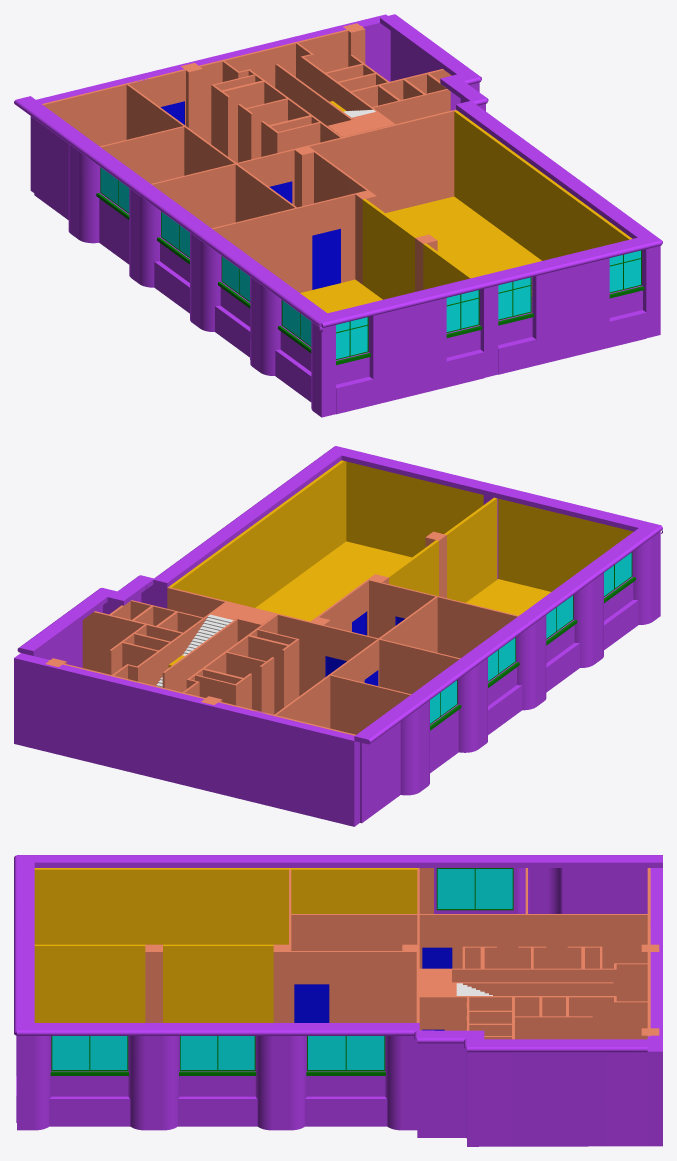
3 renders of one model, top to bottom at view 1: azimuth 30°, elevation 25°; view 2: azimuth 150°, elevation 25°; view 3: azimuth 270°, elevation 25°, orthographic. The views are drawn at different scales.
Parts seen in each view (by area): view 1: 物件_225, 物件_55, 物件_305, 物件_2, 物件_313, 物件_306, 物件_354, 物件_347, 物件_240, 物件_243, 物件_191, 物件_349 (+59 smaller); view 2: 物件_355, 物件_225, 物件_226, 物件_227, 物件_305, 物件_2, 物件_354, 物件_347, 物件_242, 物件_349, 物件_240, 物件_216 (+41 smaller); view 3: 物件_228, 物件_210, 物件_242, 物件_243, 物件_354, 物件_218, 物件_349, 物件_234, 物件_2, 物件_217, 物件_4, 物件_1 (+43 smaller).
Part boxes in pixels (box(x1,y1,x2,y2)): 物件_225: box(454, 110, 632, 260); 物件_55: box(308, 109, 456, 212); 物件_305: box(300, 196, 541, 313); 物件_2: box(211, 69, 330, 162); 物件_313: box(368, 298, 446, 405); 物件_306: box(531, 258, 609, 365); 物件_354: box(14, 96, 326, 327); 物件_347: box(313, 235, 661, 327); 物件_240: box(212, 204, 309, 292); 物件_243: box(362, 199, 417, 299); 物件_191: box(199, 29, 348, 143); 物件_349: box(456, 101, 661, 242); 物件_355: box(14, 653, 359, 826); 物件_225: box(169, 460, 346, 607); 物件_226: box(346, 461, 483, 557); 物件_227: box(498, 498, 633, 591); 物件_305: box(255, 541, 550, 621); 物件_2: box(186, 622, 299, 714); 物件_354: box(354, 523, 662, 744); 物件_347: box(328, 446, 661, 531); 物件_242: box(444, 497, 497, 602); 物件_349: box(153, 446, 347, 587); 物件_240: box(424, 593, 518, 658); 物件_216: box(354, 633, 460, 694); 物件_228: box(34, 868, 417, 944); 物件_210: box(469, 1052, 647, 1146); 物件_242: box(34, 944, 145, 1022); 物件_243: box(163, 944, 273, 1022); 物件_354: box(17, 855, 662, 867); 物件_218: box(455, 914, 647, 968); 物件_349: box(17, 1023, 419, 1035); 物件_234: box(332, 951, 402, 1022); 物件_2: box(444, 946, 616, 995); 物件_217: box(291, 914, 417, 950); 物件_4: box(419, 1043, 466, 1137); 物件_1: box(444, 996, 616, 1039).
Size of the model in its own units: 1186 by 285 by 1677.
